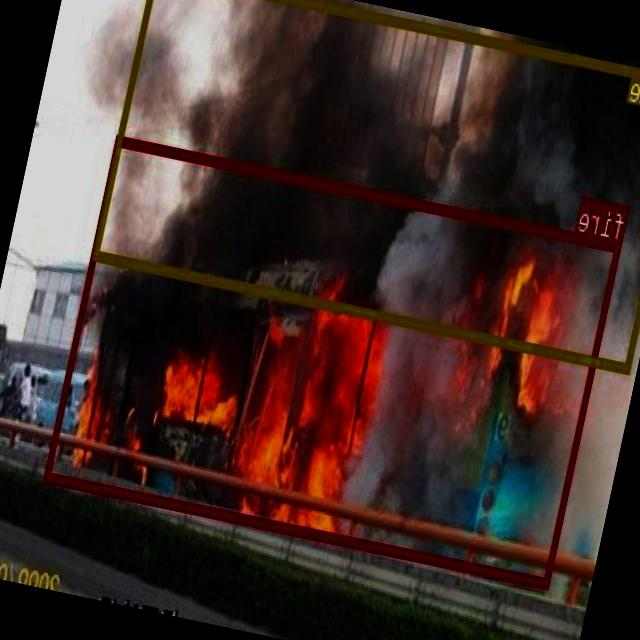fire: (45, 133, 622, 588)
smoke: (93, 0, 640, 372)
